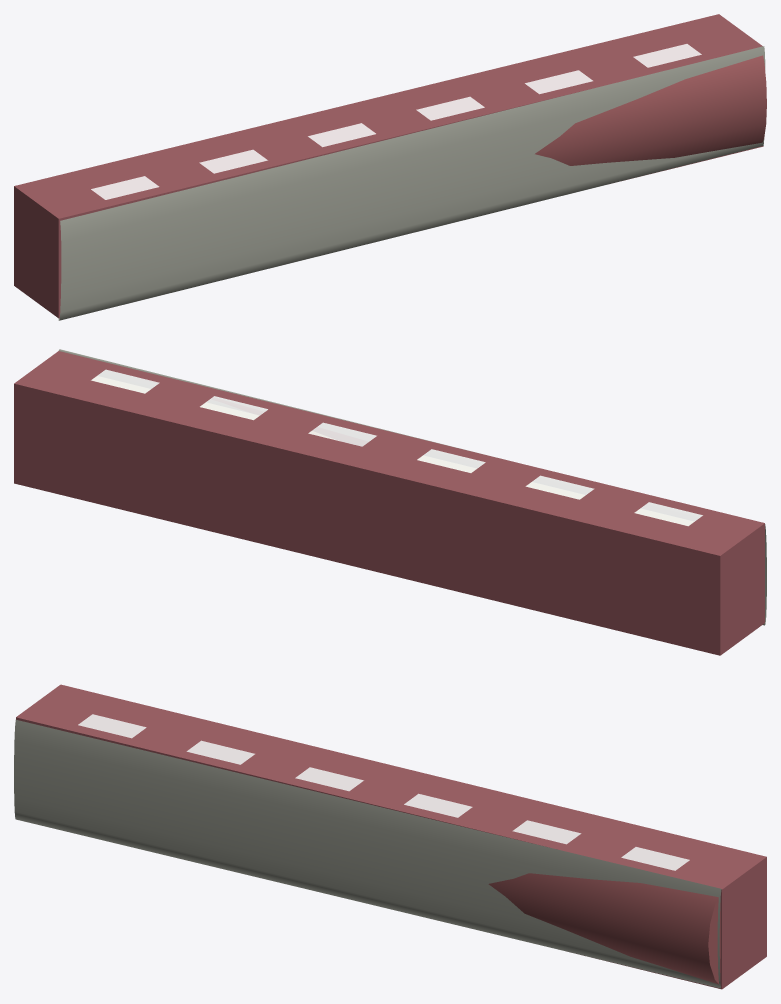
The model's file is asset6.glb.
3 views of the same model, one above another, from view 1: azimuth 30°, elevation 25°; view 2: azimuth 150°, elevation 25°; view 3: azimuth 330°, elevation 25° (orthographic).
Visible parts, largest first — view 1: Cube1, Cube1_sep24, Cylinder3, Cube1_sep22; view 2: Cube1_sep24, Cube1_sep22, Cube1; view 3: Cube1, Cube1_sep24, Cylinder3, Cube1_sep22.
Part boxes in pixels (<box>): Cube1: <box>58,46,765,320</box>; Cube1_sep24: <box>14,14,763,318</box>; Cylinder3: <box>535,55,766,165</box>; Cube1_sep22: <box>91,44,701,199</box>; Cube1_sep24: <box>14,351,764,655</box>; Cube1_sep22: <box>91,369,702,526</box>; Cube1: <box>58,349,766,625</box>; Cube1: <box>14,719,721,988</box>; Cube1_sep24: <box>16,684,766,989</box>; Cylinder3: <box>488,873,720,984</box>; Cube1_sep22: <box>78,714,689,870</box>.
Size of what is drawn, in the model's own units: 1 by 0.1402 by 0.1309.
